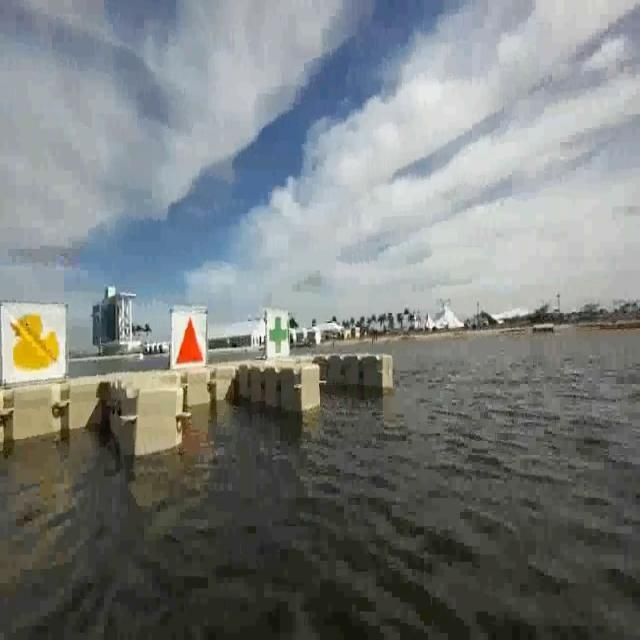blue-cross: (267, 307, 287, 353)
red-dot: (174, 311, 203, 363)
yellow-duck: (3, 304, 64, 381)
